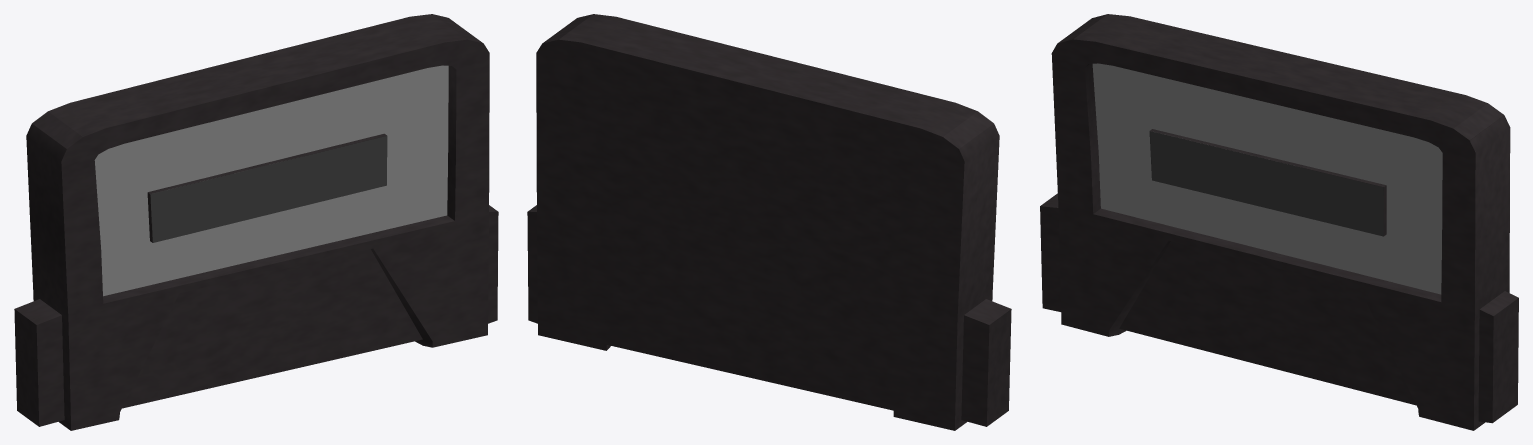
File: кассета.fbx
The picture shows the model from 3 angles, left to right: view 1: azimuth 30°, elevation 25°; view 2: azimuth 150°, elevation 25°; view 3: azimuth 330°, elevation 25°; orthographic projection.
Visible parts, largest first — view 1: SB_sidestepd.001_Baked; view 2: SB_sidestepd.001_Baked; view 3: SB_sidestepd.001_Baked.
Boxes of the visible parts, left/top/right/bottom form: SB_sidestepd.001_Baked: left=14, top=14, right=498, bottom=430; SB_sidestepd.001_Baked: left=527, top=14, right=1011, bottom=430; SB_sidestepd.001_Baked: left=1040, top=14, right=1518, bottom=430.
Size of the model in its own units: 479 by 301 by 63.19.
Materials: 1 (1 with a texture image).
